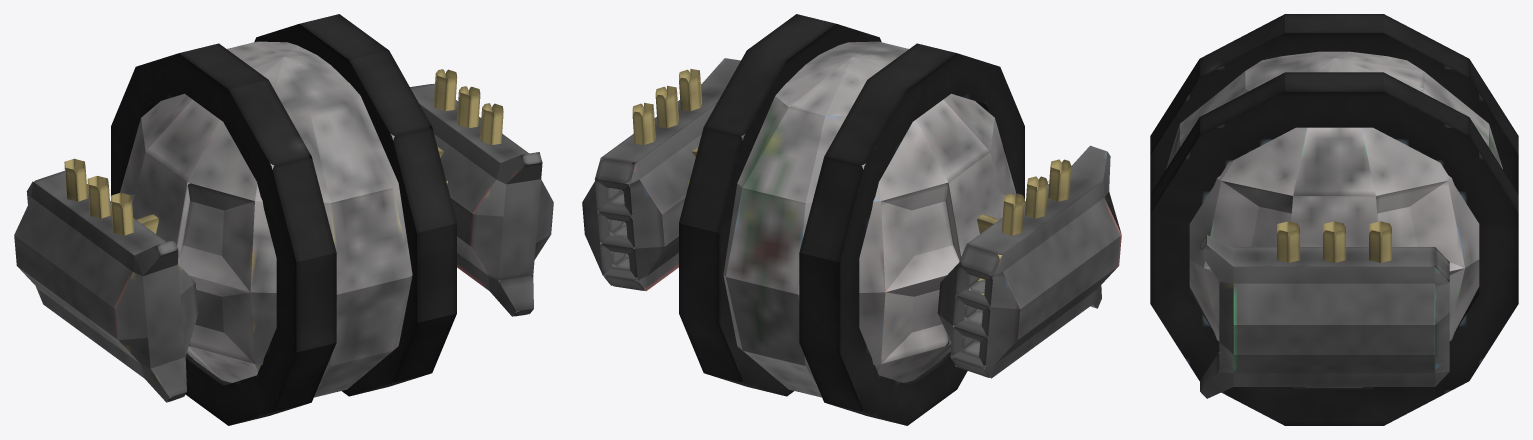
File: boss.fbx
The picture shows the model from 3 angles, left to right: view 1: azimuth 30°, elevation 25°; view 2: azimuth 150°, elevation 25°; view 3: azimuth 270°, elevation 25°; orthographic projection.
Visible parts, largest first — view 1: sphere, tube_1, beveled_cuboid_1, tube, beveled_cuboid, cylinder_2, cylinder_4, cylinder_6, cylinder_5, cylinder_3, cylinder_7; view 2: sphere, tube_1, beveled_cuboid_1, tube, beveled_cuboid, cylinder_2, cylinder_6, cylinder_4, cylinder_3, cylinder_5, cylinder_7; view 3: tube, sphere, beveled_cuboid, tube_1, cylinder_6, cylinder_2, cylinder_4.
Part boxes in pixels (left/top/right/bottom): sphere: left=120, top=41, right=412, bottom=397; tube_1: left=111, top=43, right=336, bottom=425; beveled_cuboid_1: left=14, top=170, right=198, bottom=402; tube: left=254, top=14, right=456, bottom=396; beveled_cuboid: left=410, top=84, right=553, bottom=316; cylinder_2: left=457, top=86, right=480, bottom=128; cylinder_4: left=480, top=103, right=503, bottom=144; cylinder_6: left=433, top=69, right=457, bottom=111; cylinder_5: left=64, top=158, right=87, bottom=201; cylinder_3: left=110, top=192, right=133, bottom=235; cylinder_7: left=87, top=176, right=110, bottom=218; sphere: left=723, top=41, right=1016, bottom=397; tube_1: left=799, top=43, right=1024, bottom=425; beveled_cuboid_1: left=937, top=145, right=1121, bottom=378; tube: left=679, top=14, right=881, bottom=396; beveled_cuboid: left=582, top=58, right=740, bottom=291; cylinder_2: left=655, top=85, right=678, bottom=128; cylinder_6: left=632, top=102, right=655, bottom=144; cylinder_4: left=679, top=69, right=702, bottom=111; cylinder_3: left=1048, top=159, right=1071, bottom=201; cylinder_5: left=1002, top=193, right=1024, bottom=235; cylinder_7: left=1025, top=176, right=1048, bottom=218; tube: left=1150, top=72, right=1518, bottom=425; sphere: left=1166, top=51, right=1502, bottom=387; beveled_cuboid: left=1200, top=235, right=1449, bottom=398; tube_1: left=1150, top=14, right=1518, bottom=193; cylinder_6: left=1369, top=221, right=1391, bottom=262; cylinder_2: left=1323, top=221, right=1345, bottom=262; cylinder_4: left=1277, top=221, right=1299, bottom=262.
Bounding box in the file's own units: 136 × 100 × 100.
1 material, 1 textured.
